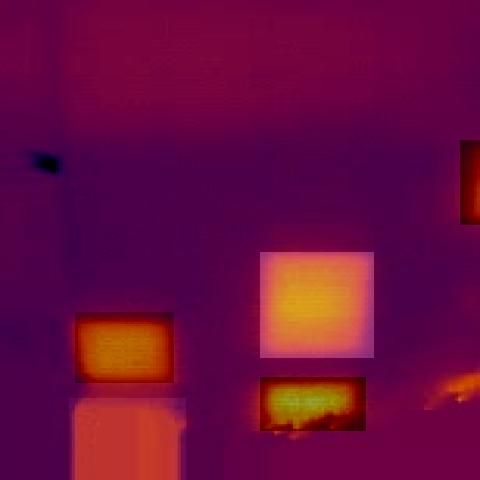fault: (260, 252, 374, 358), (69, 398, 186, 480), (75, 312, 174, 383), (260, 377, 366, 431), (460, 140, 480, 225)
